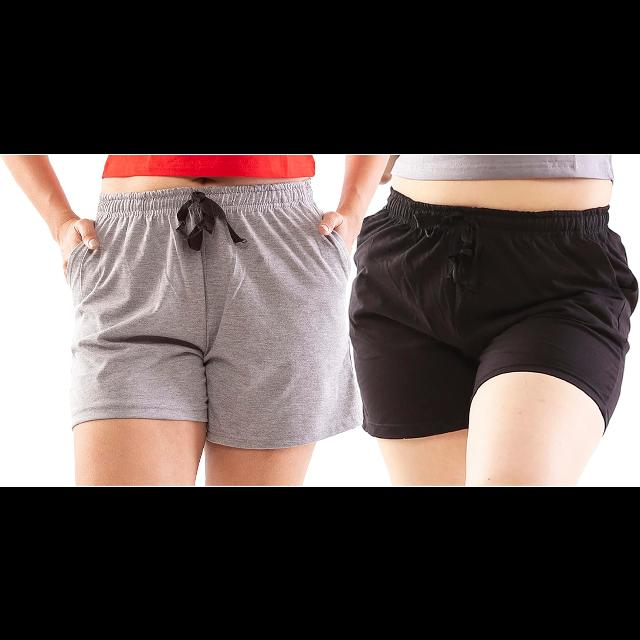bottom: (78, 196, 346, 449), (370, 195, 608, 452)
